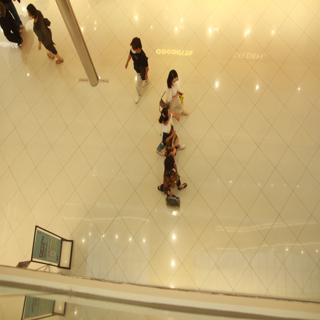person: (21, 5, 72, 76), (154, 148, 199, 216), (159, 64, 190, 129), (129, 22, 150, 106), (153, 107, 184, 163)
